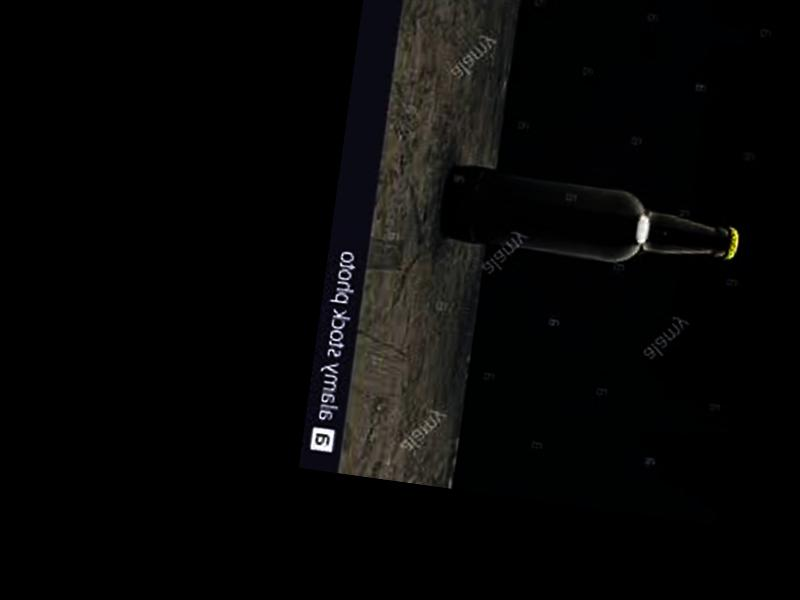Beer: (441, 164, 743, 272)
